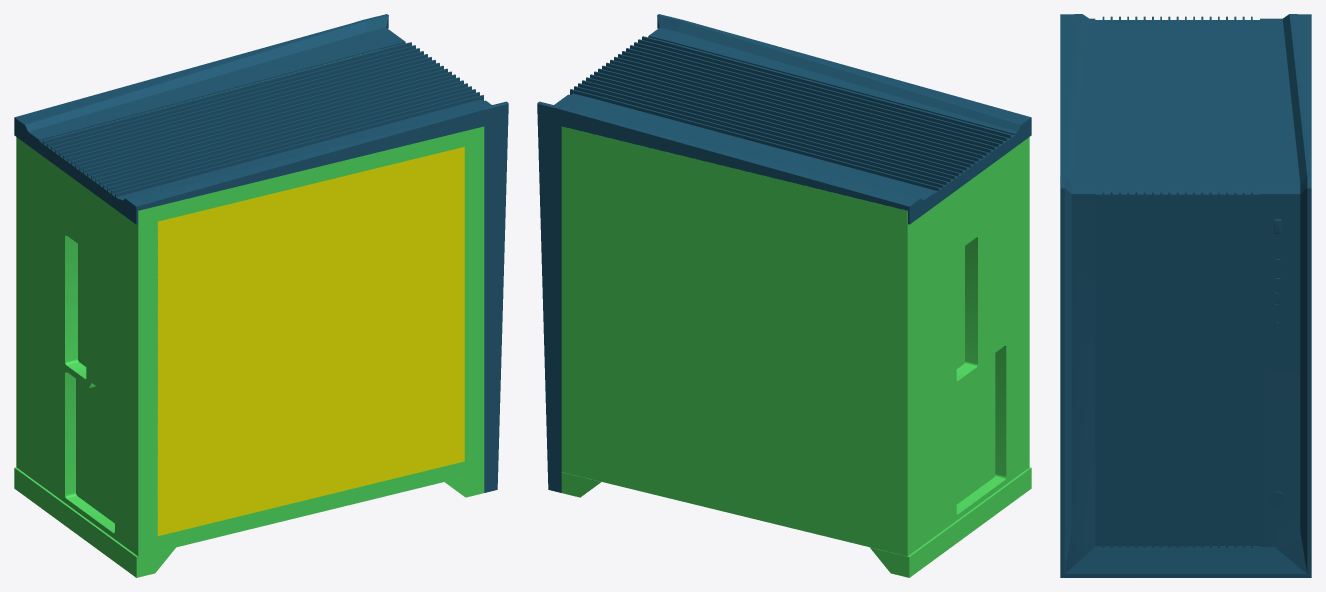
The picture shows the model from 3 angles, left to right: view 1: azimuth 30°, elevation 25°; view 2: azimuth 150°, elevation 25°; view 3: azimuth 270°, elevation 25°; orthographic projection. The views are drawn at different scales.
Parts seen in each view (by area): view 1: Object004, Box006, Group005, Box007, Box013, Box003, Box020; view 2: Box006, Group005, Box007, Box003, Box013, Box020; view 3: Group005, Box007.
Boxes of the visible parts, x1,y1,x2,y2 form: Object004: [157, 146, 464, 535]; Box006: [16, 53, 365, 553]; Group005: [39, 42, 483, 199]; Box007: [14, 14, 508, 492]; Box013: [135, 126, 484, 556]; Box003: [14, 467, 175, 577]; Box020: [445, 472, 484, 497]; Box006: [561, 126, 1026, 556]; Group005: [570, 36, 1014, 193]; Box007: [537, 14, 1031, 492]; Box003: [870, 467, 1031, 577]; Box013: [1027, 137, 1029, 468]; Box020: [561, 472, 601, 497]; Group005: [1095, 16, 1300, 547]; Box007: [1060, 14, 1311, 577].
Size of the model in its own units: 18.72 by 18.44 by 10.63.
